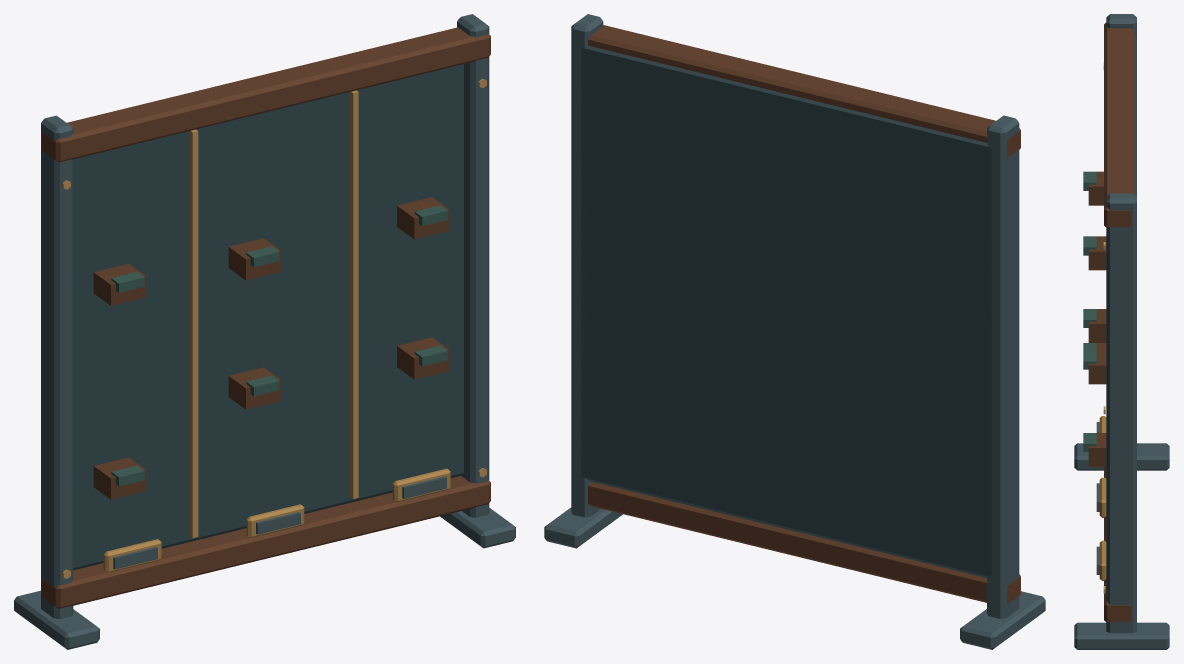
Rendered from w2b-stock-wall.glb.
The picture shows the model from 3 angles, left to right: view 1: azimuth 30°, elevation 25°; view 2: azimuth 150°, elevation 25°; view 3: azimuth 270°, elevation 25°; orthographic projection. The views are drawn at different scales.
Visible parts, largest first — view 1: w2b-stock-wall; view 2: w2b-stock-wall; view 3: w2b-stock-wall.
Boxes of the visible parts, <box> form: w2b-stock-wall: <box>14,14,515,649</box>; w2b-stock-wall: <box>544,14,1045,649</box>; w2b-stock-wall: <box>1074,14,1169,649</box>.
Bounding box in the file's own units: 2.56 × 2.74 × 0.53.
